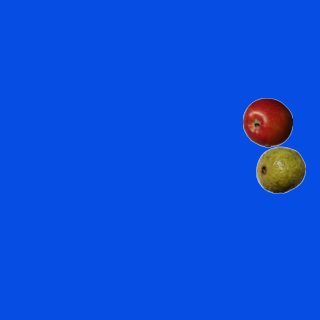Apple Braeburn: (242, 97, 292, 147)
Guava: (255, 144, 305, 194)
